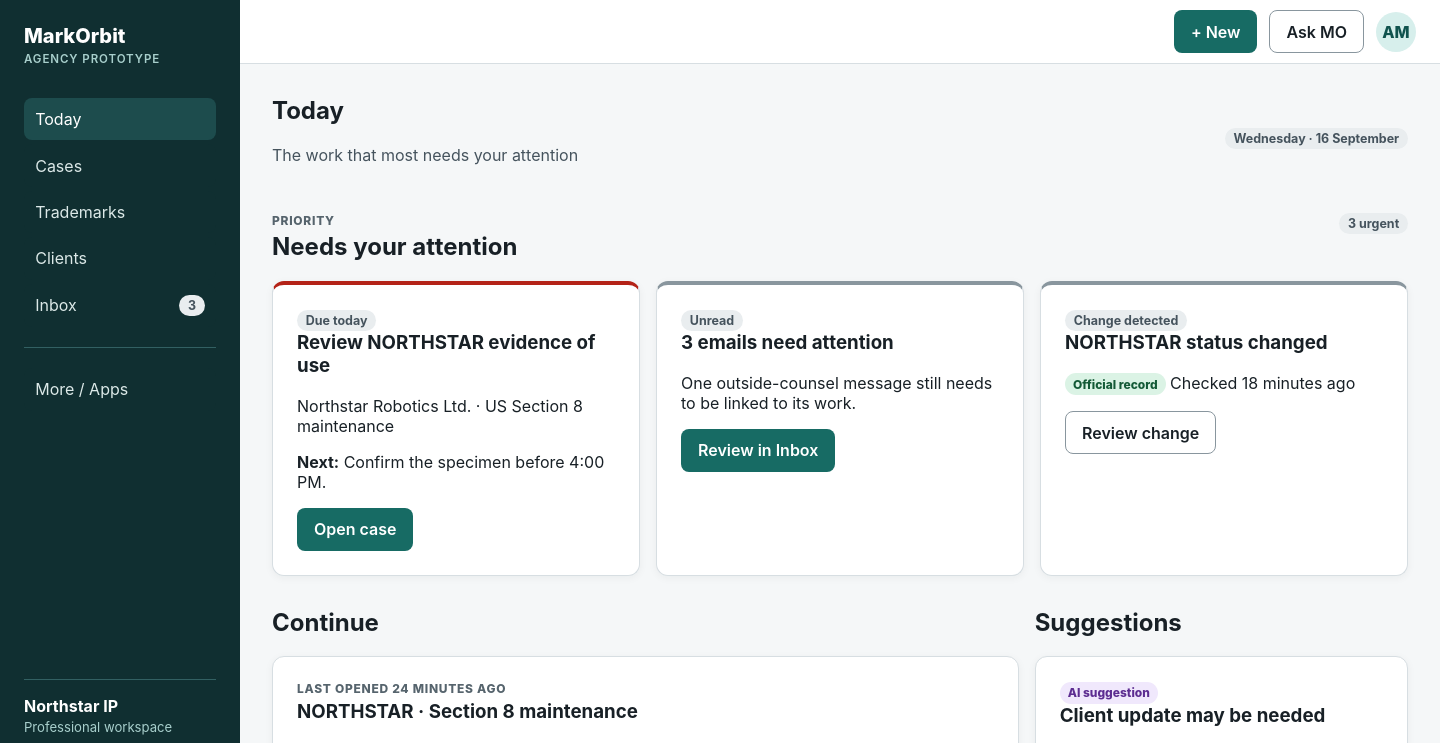
Scenario: AgencyIaPrototype › opens an inspectable trademark change and keeps the client update as a draft
Click the button "Review change" at (1141, 433), box [1065,411,1216,454]
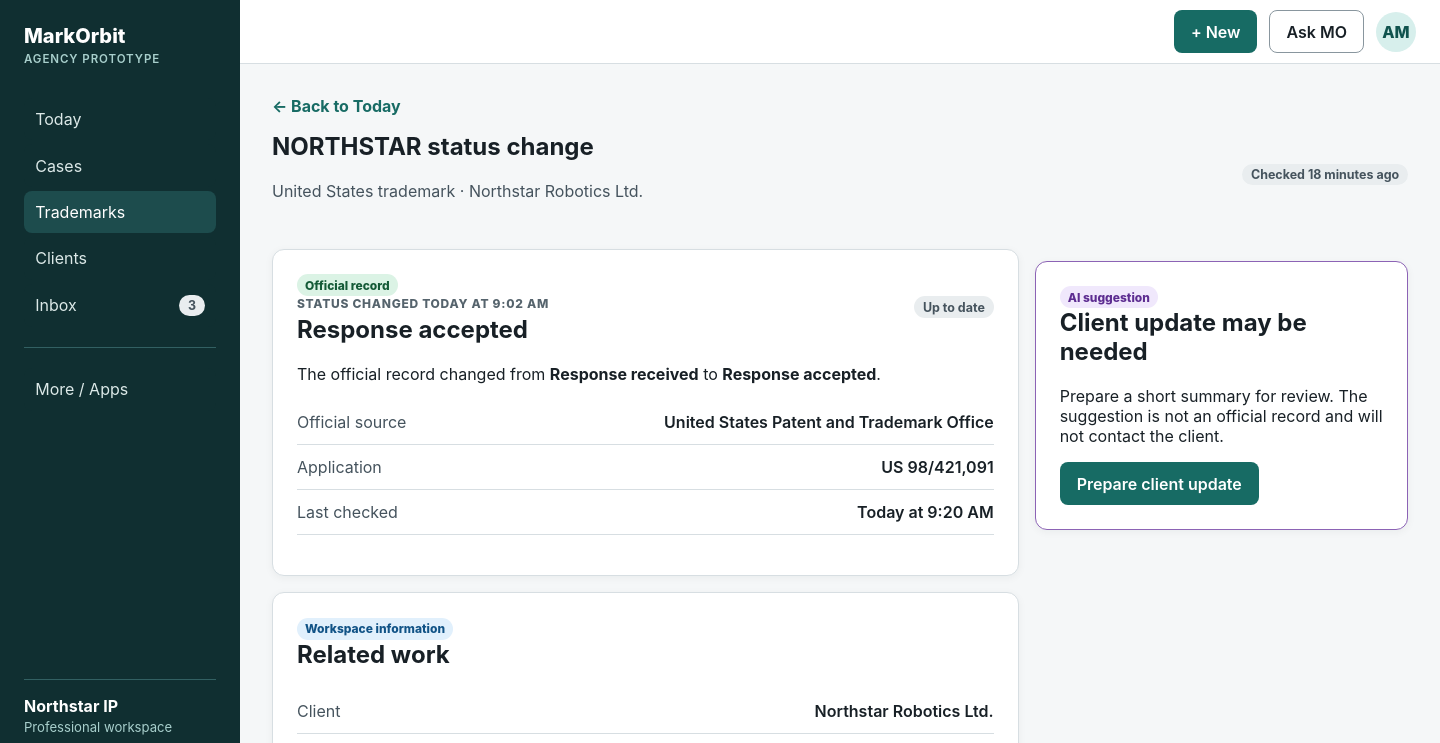
Result: the heading "NORTHSTAR status change" is shown at [272,132,643,161]
Result: the text "Response received" is shown at [550,364,699,384]
Result: the number of headings "Response accepted" is 2 at [297,315,549,344]; [722,364,876,384]
Click the button "Prepare client update" at (1159, 484), box [1060,462,1259,505]
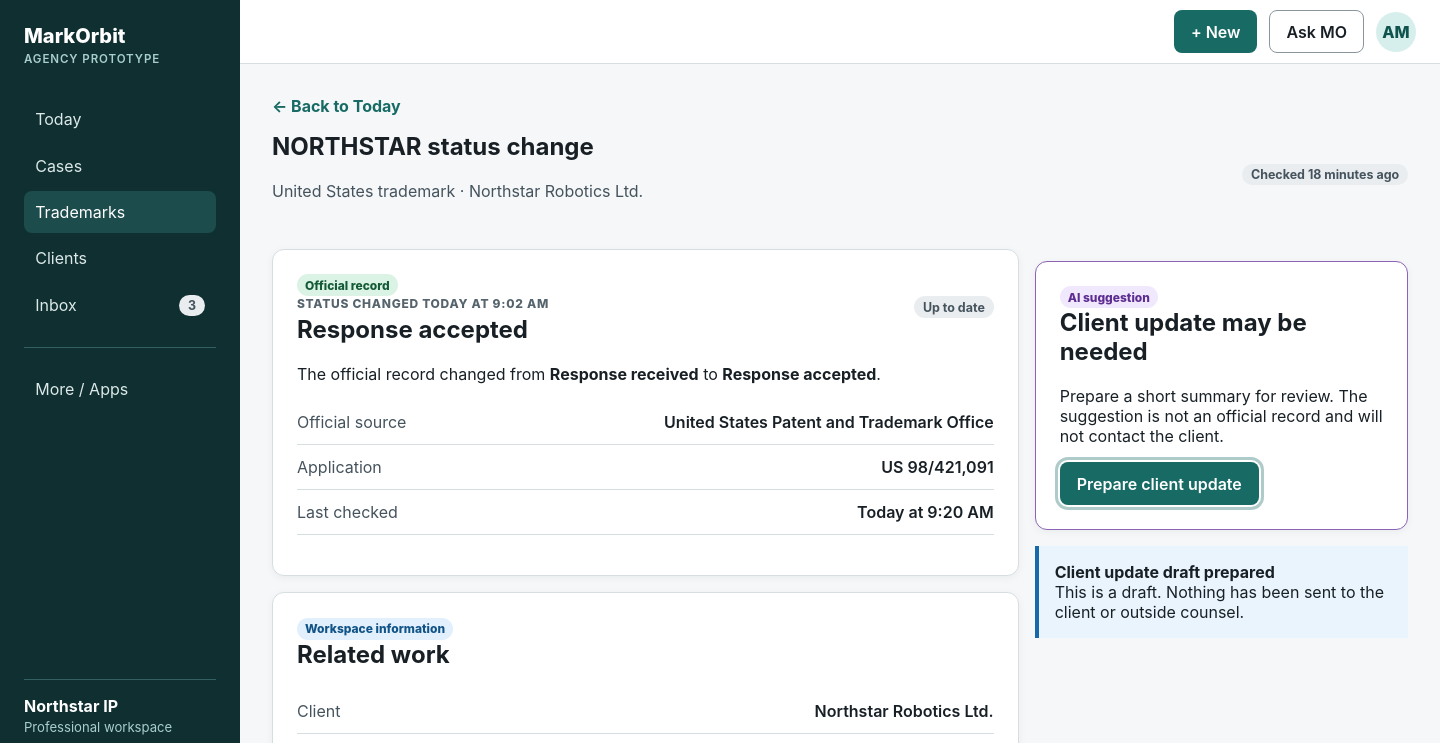
Result: the text "This is a draft. Nothing has been sent to the client or outside counsel." is shown at [1055,582,1392,622]
